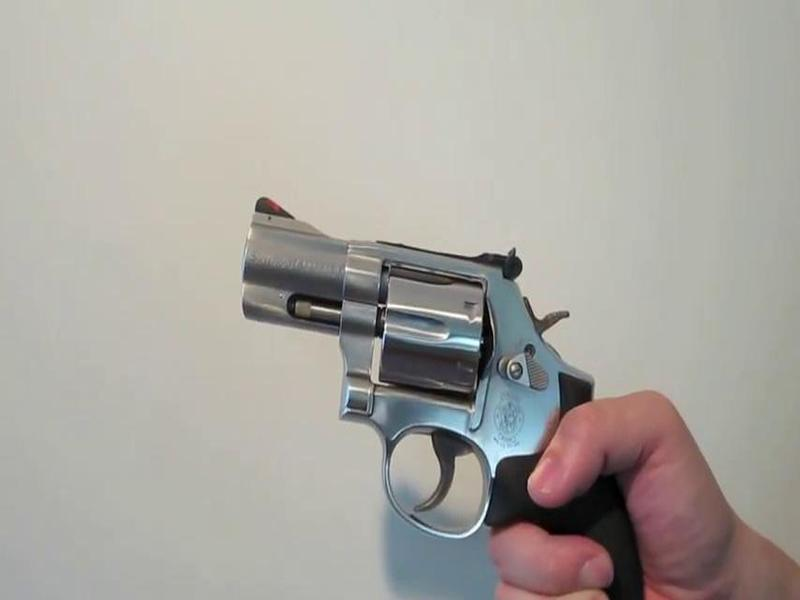Revolver: (231, 177, 656, 600)
